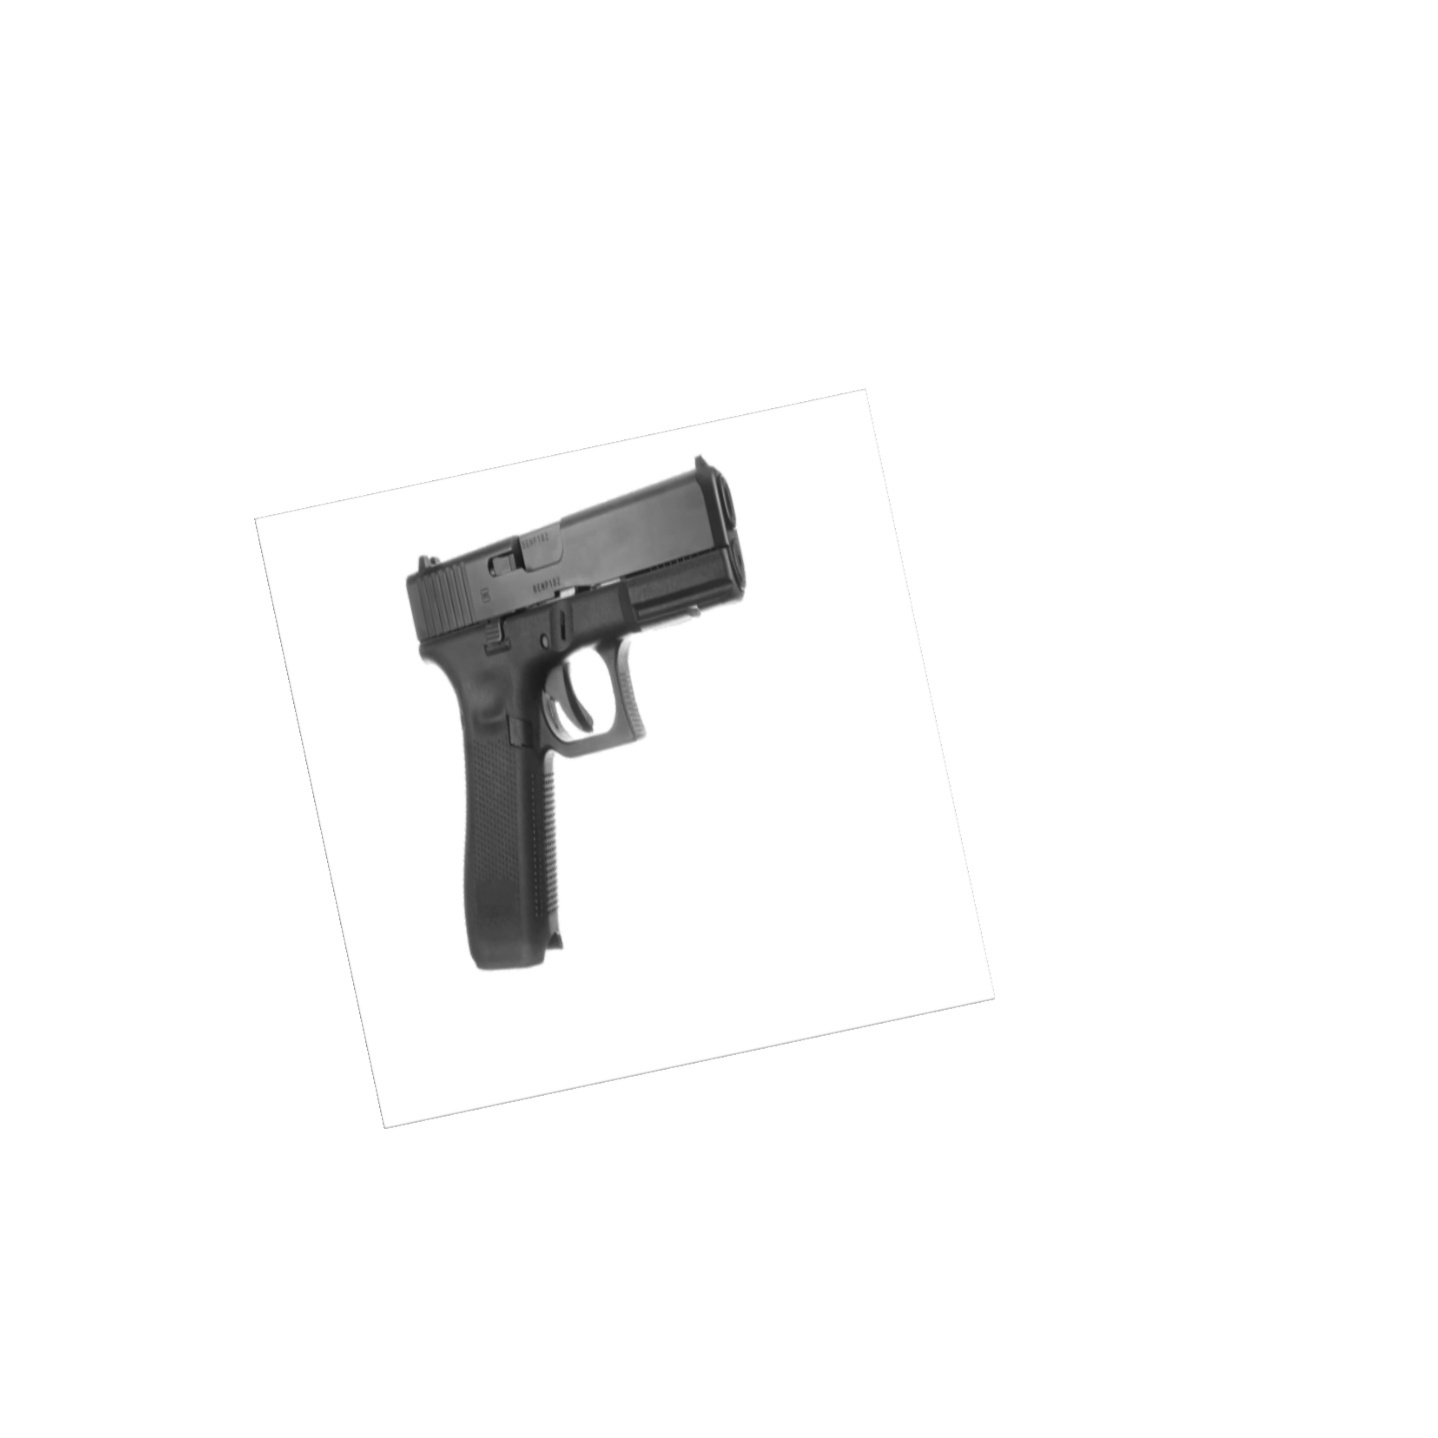gun: (406, 456, 751, 969)
